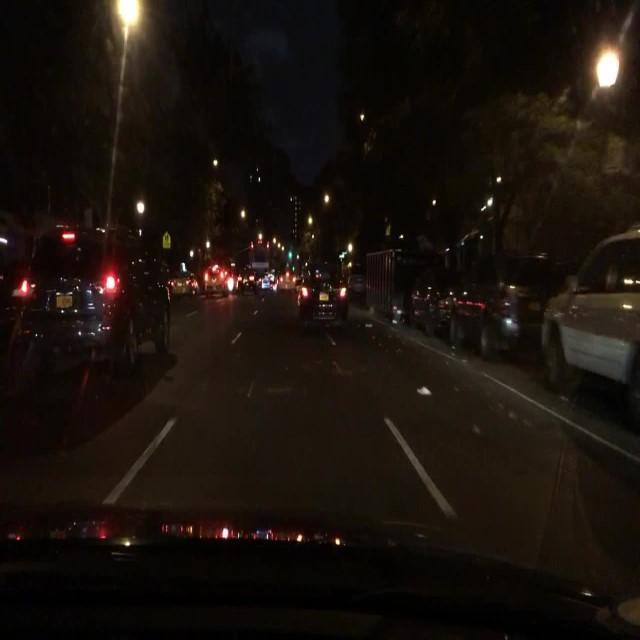normal: (13, 216, 184, 399), (538, 226, 639, 424), (276, 241, 363, 345)
